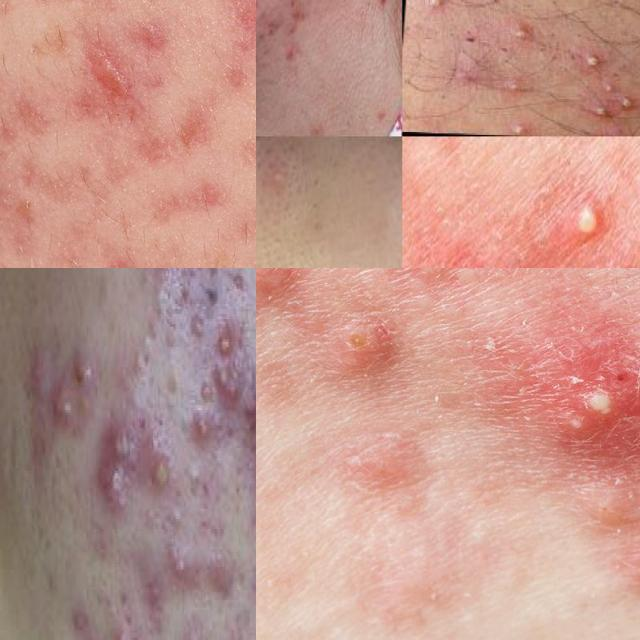acne_scars: (66, 26, 142, 128), (0, 55, 14, 144), (256, 0, 265, 17)
comedone: (256, 143, 302, 214), (184, 451, 207, 506)
crystanlline: (551, 342, 640, 467), (99, 408, 143, 532), (216, 372, 256, 448), (50, 390, 80, 443)
cystic: (374, 0, 390, 13)
folliculitis: (504, 18, 537, 50), (576, 50, 609, 75), (503, 77, 530, 101), (504, 122, 540, 136), (418, 0, 451, 14), (619, 94, 638, 110), (594, 103, 611, 118)
papule: (340, 329, 407, 388), (65, 354, 102, 398), (603, 122, 638, 136)
pustule: (567, 193, 608, 247), (187, 403, 215, 445), (150, 441, 168, 504), (168, 544, 194, 585), (108, 612, 146, 640), (214, 319, 237, 365)
